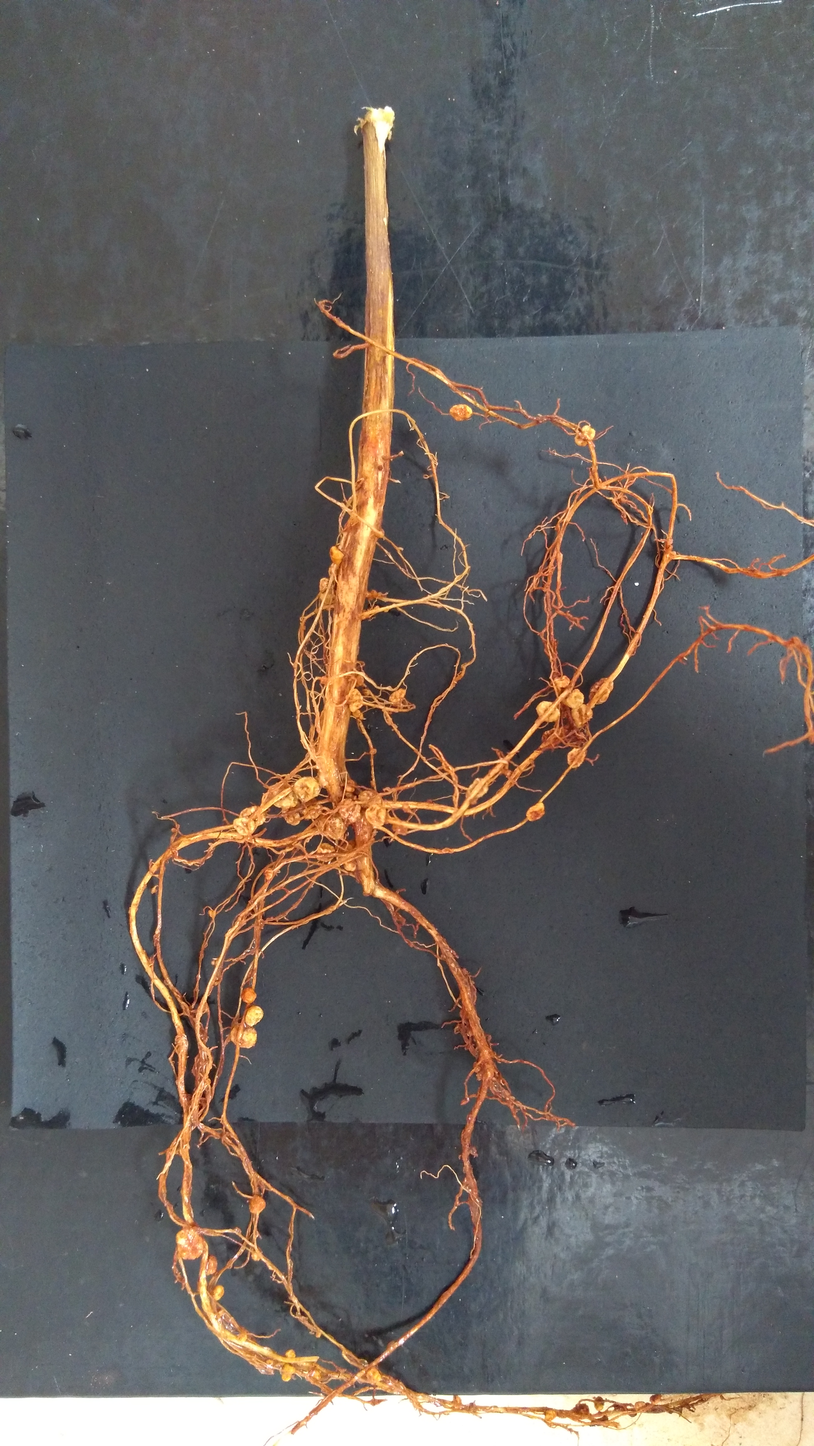nodule: (175, 1228, 204, 1260), (586, 676, 615, 706), (269, 784, 300, 809), (464, 777, 490, 806), (293, 776, 320, 801), (229, 1025, 257, 1049), (236, 805, 266, 826), (535, 700, 561, 723), (539, 727, 566, 749), (568, 704, 593, 727), (324, 815, 345, 841), (566, 747, 589, 770), (364, 803, 386, 827), (339, 798, 361, 822), (356, 789, 383, 808), (299, 798, 322, 820), (560, 688, 585, 708), (449, 403, 473, 423), (345, 687, 363, 712), (316, 841, 336, 863), (232, 817, 255, 836), (526, 802, 546, 822), (317, 591, 336, 611), (245, 1005, 263, 1026), (280, 808, 301, 826), (239, 986, 258, 1005), (248, 1195, 266, 1214), (327, 545, 345, 564), (387, 687, 407, 704), (338, 837, 357, 854), (280, 1362, 296, 1382), (390, 819, 408, 836), (317, 576, 333, 594), (365, 1368, 383, 1383), (571, 1402, 590, 1416), (206, 1254, 218, 1276), (342, 856, 358, 872), (588, 1415, 609, 1427), (581, 425, 596, 441), (554, 674, 571, 688), (305, 1369, 322, 1383), (250, 1247, 263, 1263), (457, 1006, 471, 1020), (574, 434, 589, 447), (213, 1284, 224, 1301), (353, 673, 365, 688), (345, 778, 356, 793), (593, 1396, 604, 1411), (285, 1347, 296, 1361), (648, 1393, 662, 1404), (544, 1409, 556, 1421), (263, 867, 273, 880), (611, 1403, 625, 1412), (352, 710, 364, 720), (632, 1400, 646, 1408), (369, 589, 378, 601), (452, 1394, 462, 1404), (472, 1061, 480, 1073), (239, 1330, 248, 1340), (627, 1409, 638, 1417), (207, 909, 216, 918), (361, 687, 370, 696), (476, 1072, 483, 1082), (266, 1358, 274, 1366), (320, 676, 327, 685), (208, 909, 214, 918)
